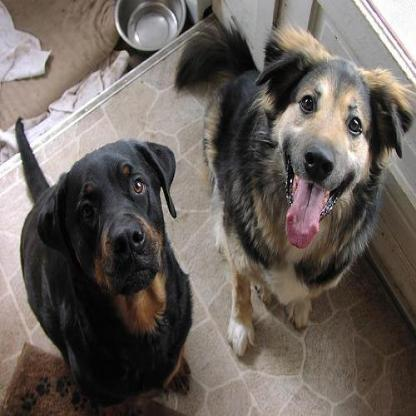Rottweiler: (13, 111, 193, 414)
